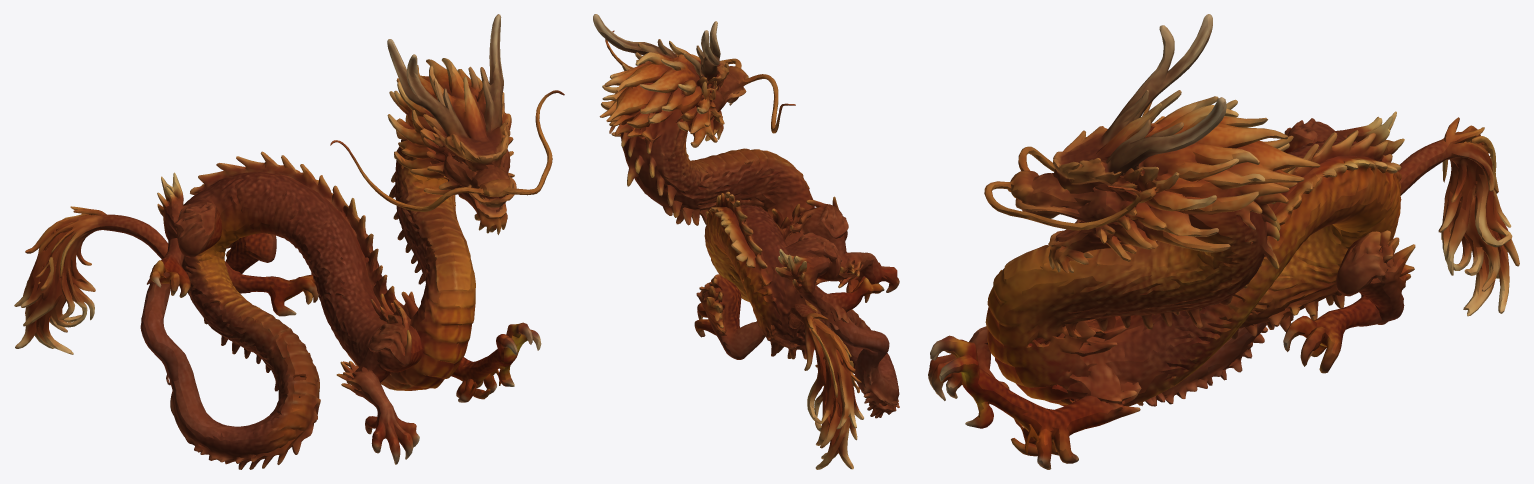
3 renders of one model, left to right at view 1: azimuth 30°, elevation 25°; view 2: azimuth 150°, elevation 25°; view 3: azimuth 270°, elevation 25°, orthographic. The views are drawn at different scales.
Visible parts, largest first — view 1: world; view 2: world; view 3: world.
Boxes of the visible parts, x1,y1,x2,y2 form: world: (14,14,564,469); world: (593,14,899,469); world: (928,14,1519,469).
Bounding box in the file's own units: 0.45 × 0.3935 × 0.4228.
1 material, 1 textured.
